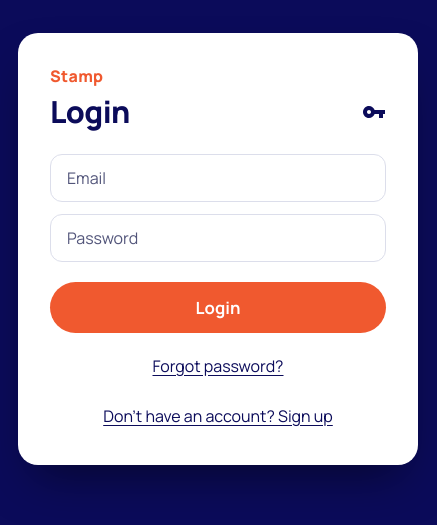
Test: Login › shows the server error message
In the field labelled "Email": (218, 178) x1=50 y1=154 x2=386 y2=202, type "a@b.co"
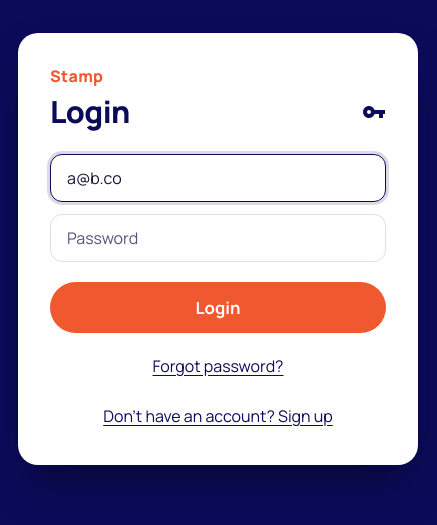
In the password field labelled "Password": (218, 238) x1=50 y1=214 x2=386 y2=262, type "secret12"
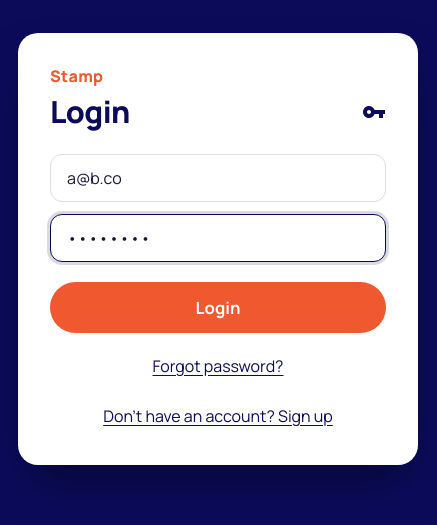
Click the button "Login": (218, 308) x1=50 y1=282 x2=386 y2=333
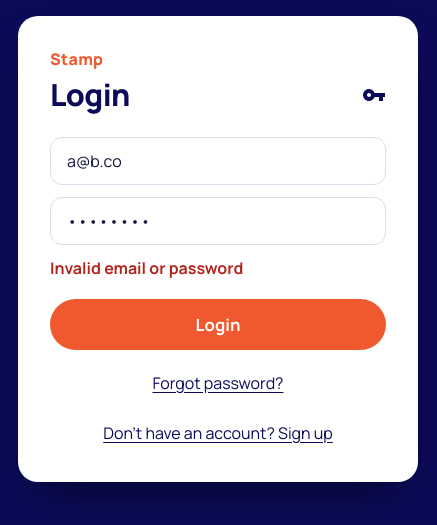
Expected: the message reads "Invalid email or password", x1=50 y1=257 x2=243 y2=279
